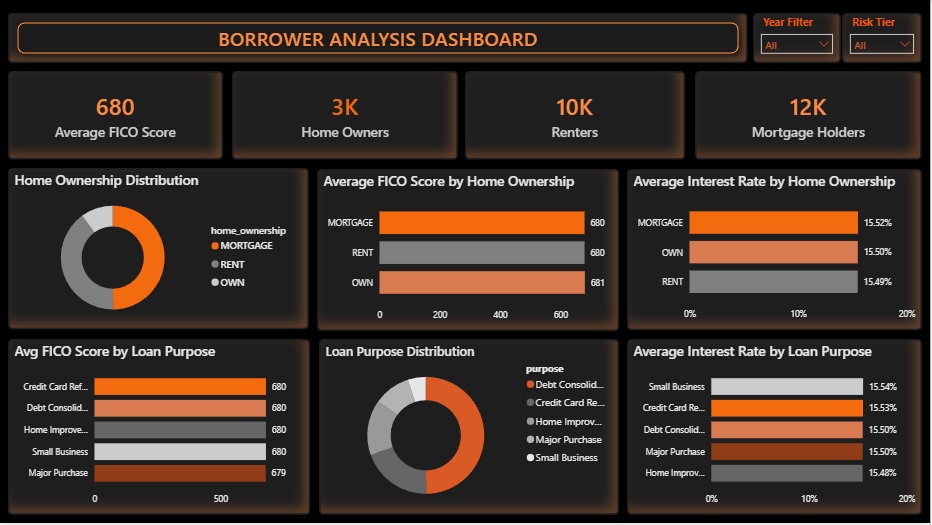

This screenshot's page, from the dashboard's own definition file:
{"tool":"powerbi","page":{"name":"Borrower Analysis","canvas":[1280,720],"ordinal":2},"visuals":[{"type":"shape","box":[11,17.9,1018.5,68.8],"z":0},{"type":"slicer","fields":{"Values":["credit_risk_loans.issue_date.Variation.Date Hierarchy.Year"]},"box":[1036.4,17.9,121.1,68.8],"z":1},{"type":"slicer","fields":{"Values":["credit_risk_loans.risk_tier"]},"box":[1158.9,17.9,110.1,68.8],"z":2},{"type":"cardVisual","fields":{"Data":["Measure.Avg FICO Score Rounded"]},"box":[11,97.7,295.9,122.5],"z":3},{"type":"cardVisual","fields":{"Data":["Measure.Home Owners"]},"box":[319.3,97.7,311.1,122.5],"z":4},{"type":"cardVisual","fields":{"Data":["Measure.Renters"]},"box":[640,97.7,302.8,122.5],"z":5},{"type":"cardVisual","fields":{"Data":["Measure.Mortgage Holders"]},"box":[956.6,97.7,312.4,122.5],"z":6},{"type":"donutChart","title":"Home Ownership Distribution","fields":{"Category":["credit_risk_loans.home_ownership"],"Y":["CountNonNull(credit_risk_loans.loan_id)"]},"box":[11,231.2,414.3,221.6],"z":7},{"type":"clusteredBarChart","title":"Average FICO Score by Home Ownership","fields":{"Category":["credit_risk_loans.home_ownership"],"Y":["Measure.Avg FICO Score Rounded"]},"box":[436.3,232.6,415.7,223],"z":8},{"type":"clusteredBarChart","title":"Average Interest Rate by Home Ownership","fields":{"Category":["credit_risk_loans.home_ownership"],"Y":["Measure.Avg Interest Rate"]},"box":[863,232.6,406,221.6],"z":9},{"type":"donutChart","title":"Loan Purpose Distribution","fields":{"Category":["credit_risk_loans.purpose"],"Y":["CountNonNull(credit_risk_loans.loan_id)"]},"box":[439.1,466.6,412.9,242.2],"z":10},{"type":"clusteredBarChart","title":"Avg FICO Score by Loan Purpose","fields":{"Category":["credit_risk_loans.purpose"],"Y":["Measure.Avg FICO Score Rounded"]},"box":[11,466.6,415.7,242.2],"z":11},{"type":"clusteredBarChart","title":"Average Interest Rate by Loan Purpose","fields":{"Category":["credit_risk_loans.purpose"],"Y":["Measure.Avg Interest Rate"]},"box":[863,467,406,242],"z":12}]}

Visuals, with their boxes in screenshot pixels (x1, y1, x2, y2), scaled from the page's 1280x720 canvas onto the 932x525 screenshot:
shape: detection(8, 13, 750, 63)
slicer - credit_risk_loans.issue_date.Variation.Date Hierarchy.Year: detection(755, 13, 843, 63)
slicer - credit_risk_loans.risk_tier: detection(844, 13, 924, 63)
cardVisual - Measure.Avg FICO Score Rounded: detection(8, 71, 223, 161)
cardVisual - Measure.Home Owners: detection(232, 71, 459, 161)
cardVisual - Measure.Renters: detection(466, 71, 686, 161)
cardVisual - Measure.Mortgage Holders: detection(697, 71, 924, 161)
"Home Ownership Distribution" donutChart: detection(8, 169, 310, 330)
"Average FICO Score by Home Ownership" clusteredBarChart: detection(318, 170, 620, 332)
"Average Interest Rate by Home Ownership" clusteredBarChart: detection(628, 170, 924, 331)
"Loan Purpose Distribution" donutChart: detection(320, 340, 620, 517)
"Avg FICO Score by Loan Purpose" clusteredBarChart: detection(8, 340, 311, 517)
"Average Interest Rate by Loan Purpose" clusteredBarChart: detection(628, 341, 924, 517)
